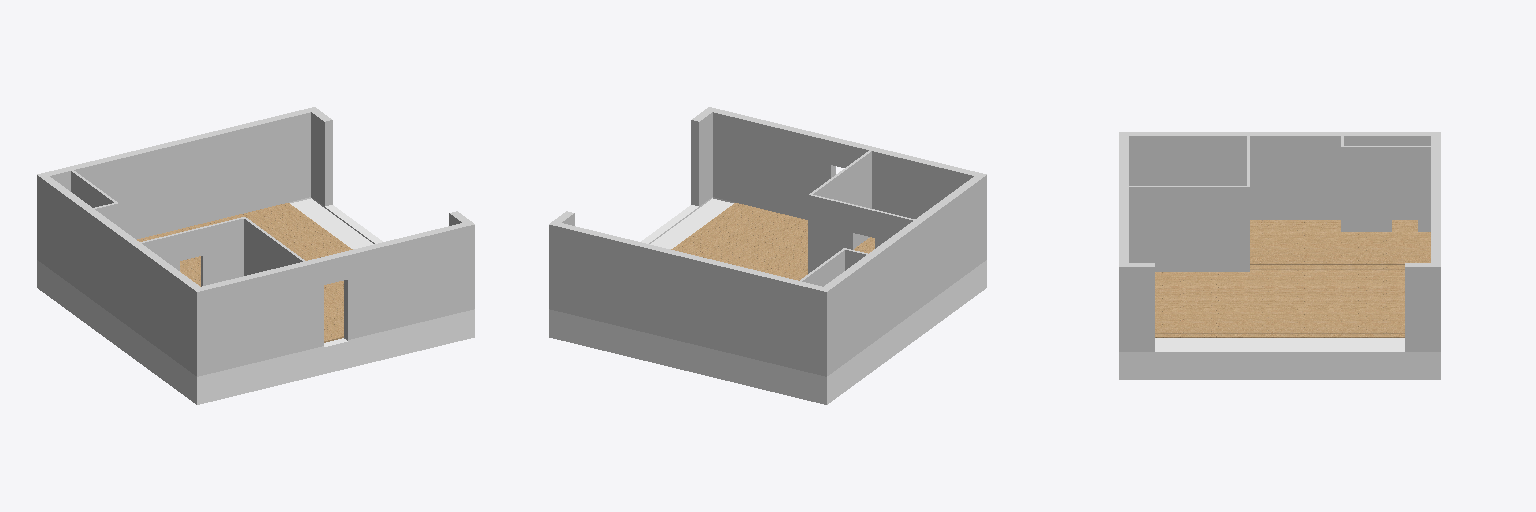
3 views of the same model, side by side, from view 1: azimuth 30°, elevation 25°; view 2: azimuth 150°, elevation 25°; view 3: azimuth 270°, elevation 25° (orthographic).
Visible parts, largest first — view 1: TestHouseMergedPB; view 2: TestHouseMergedPB; view 3: TestHouseMergedPB.
Part boxes in pixels (x1,y1,x2,y2): TestHouseMergedPB: (37, 107, 474, 404); TestHouseMergedPB: (549, 107, 986, 404); TestHouseMergedPB: (1119, 132, 1440, 379).
Bounding box in the file's own units: 10.3 × 4 × 10.3.
4 materials, 1 textured.